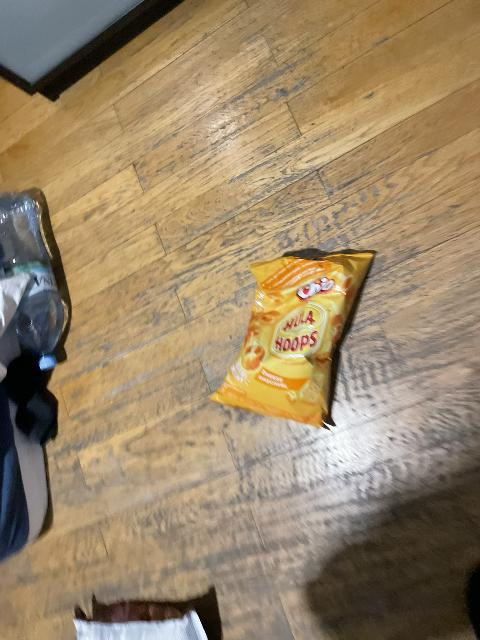Chio Hula Hoops Cheese 70g: (209, 254, 376, 429)
